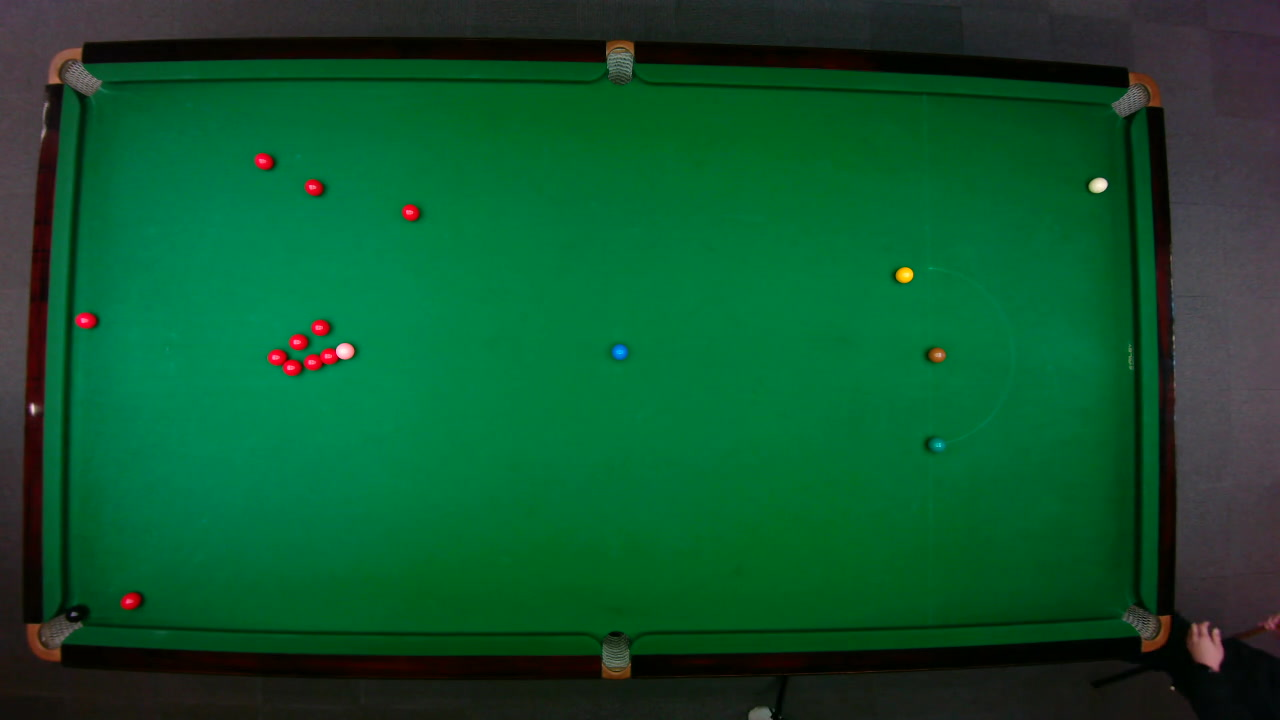bag: (24, 608, 83, 662), (45, 46, 102, 96), (1119, 602, 1171, 651), (1108, 71, 1161, 118), (600, 629, 629, 680), (605, 38, 633, 85)
black: (64, 605, 85, 622)
blue: (610, 342, 628, 360)
brown: (926, 346, 946, 362)
green: (926, 435, 946, 452)
pink: (334, 341, 355, 360)
red: (118, 590, 142, 610), (73, 311, 97, 328), (266, 347, 287, 366), (253, 151, 274, 170), (303, 177, 324, 196), (309, 317, 331, 335), (400, 202, 420, 221), (287, 332, 308, 350), (281, 358, 302, 376), (302, 352, 323, 370), (319, 346, 337, 365)
white: (1086, 175, 1108, 193)
yellow: (893, 265, 914, 283)
zone: (926, 266, 1014, 444)
